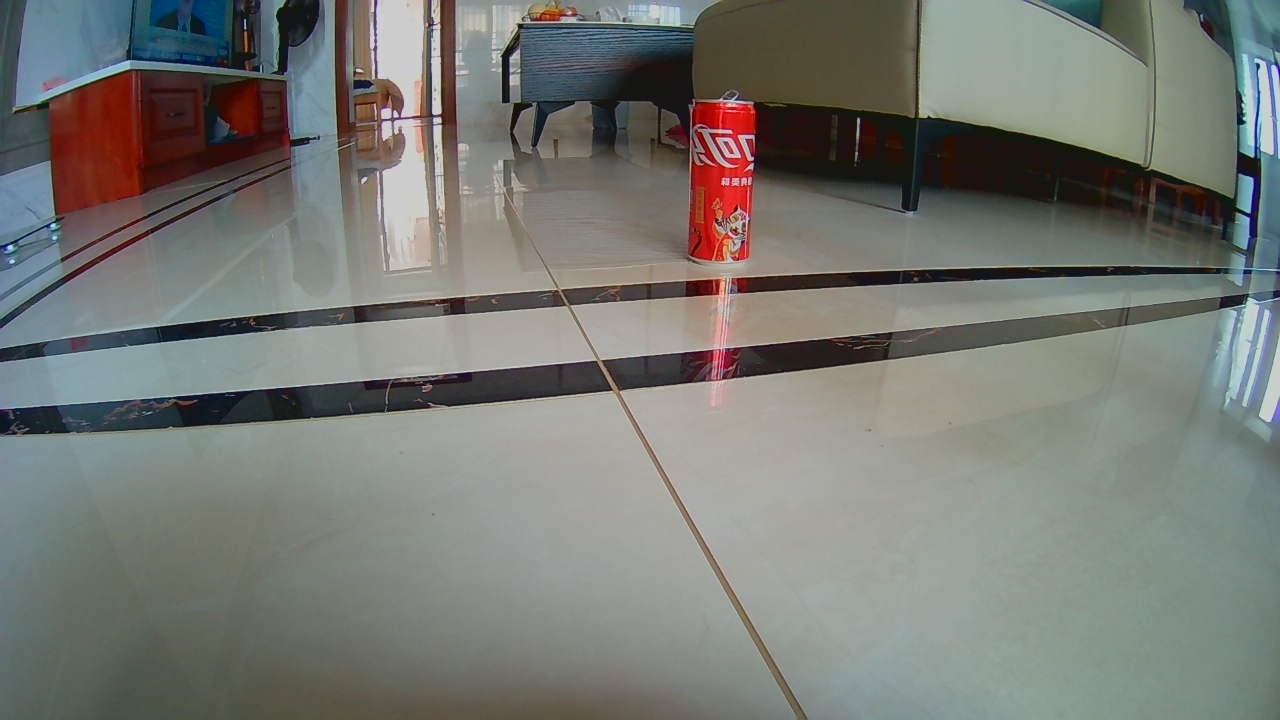cola: (687, 83, 755, 276)
